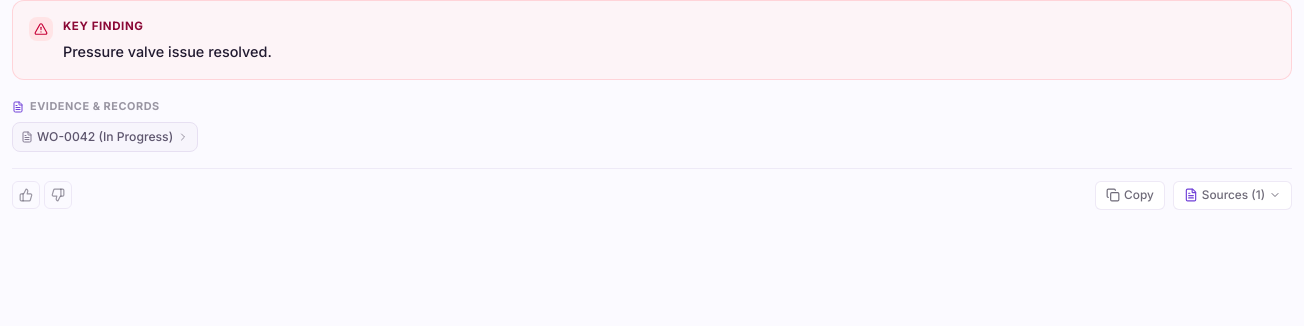
Test: AiAnswerRenderer › provides an interactive action toolbar with feedback and sources toggle
The width and height of the screenshot is (1304, 326).
Click the button named "mark answer as helpful" at x=26, y=195, box [12,181,40,209]
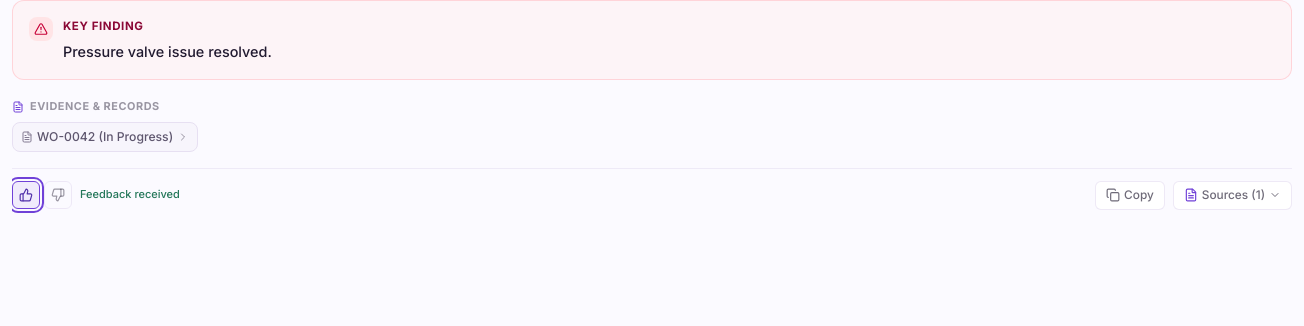
expect the text "Feedback received" is shown: met, box [80,186,180,204]
Click the button with aria-label "toggle sources" at x=1232, y=195, box [1173,180,1292,210]
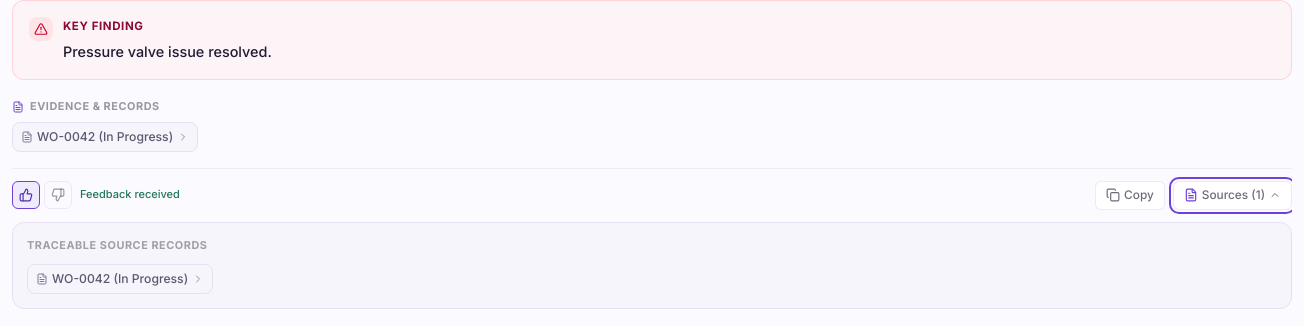
expect the text "Traceable Source Records" is shown: met, box [27,238,208,252]
